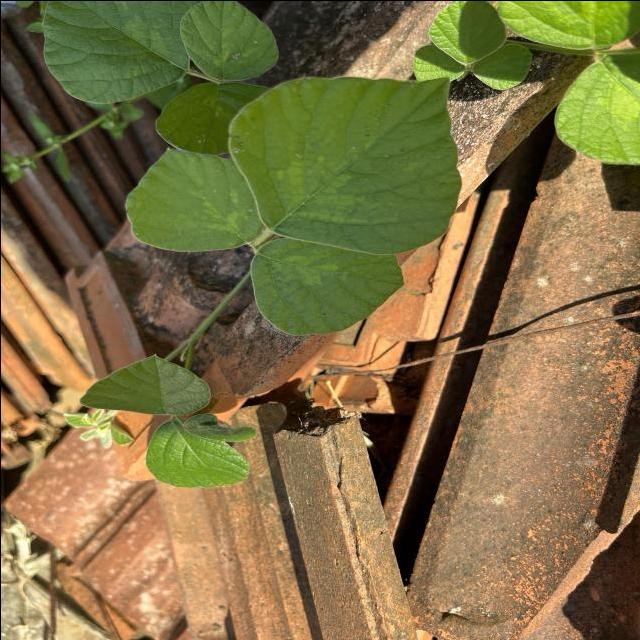Pseudarthria viscida: (120, 71, 460, 336)
